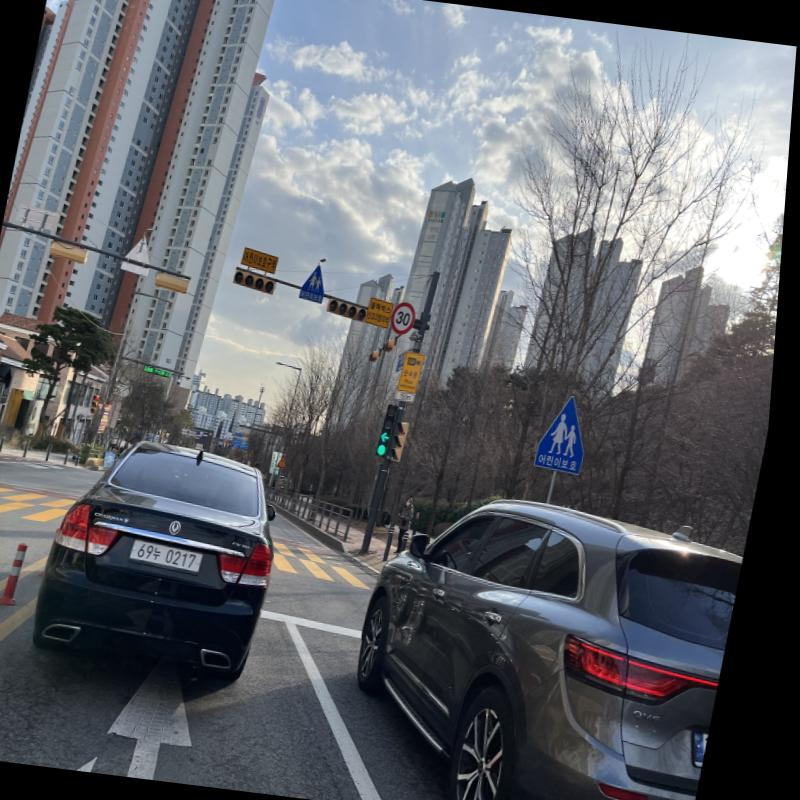green: (382, 443, 394, 456)
left: (386, 429, 397, 444)
